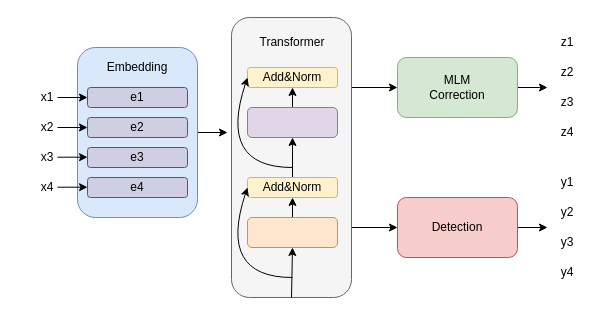
Image size: 614x323. Some labels were removed from this diagram. The shapes that lost their labels are listed below. From the top down, each one's centre as x and y in pixels, then its label:
At (x=292, y=122): "Feed Forward".
At (x=292, y=232): "Multihead attention".
